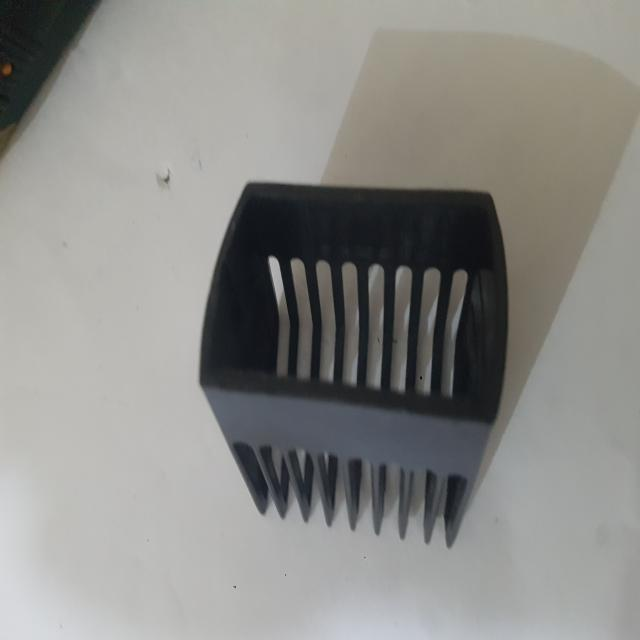general: (198, 178, 510, 548)
